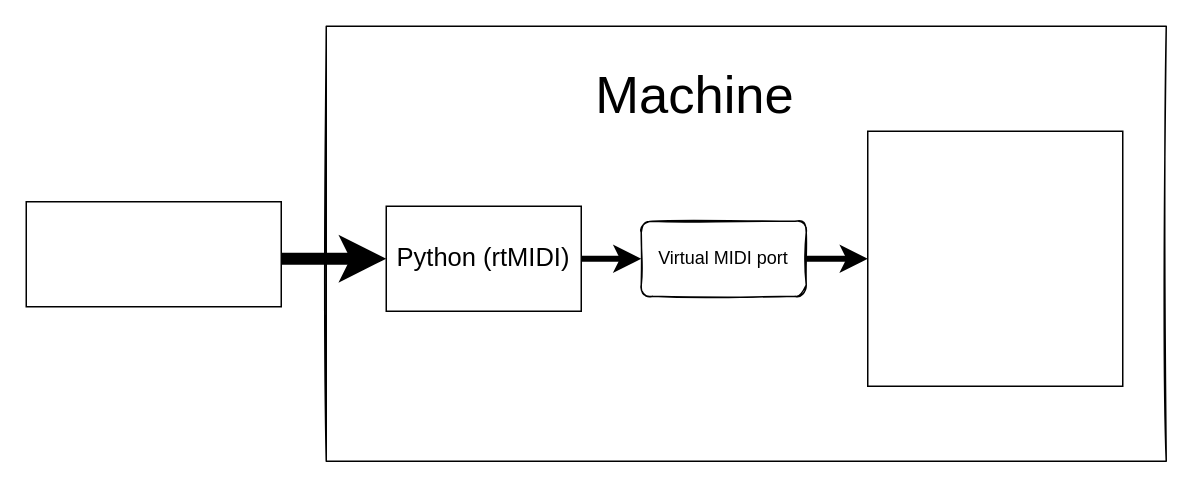
Some shapes in this 1193 by 488 pixel diagram are drawn without their labels. The centre of each missing label's shape, as x and y in pixels:
DAW: pixel 994 258
MIDI Keyboard: pixel 153 253
